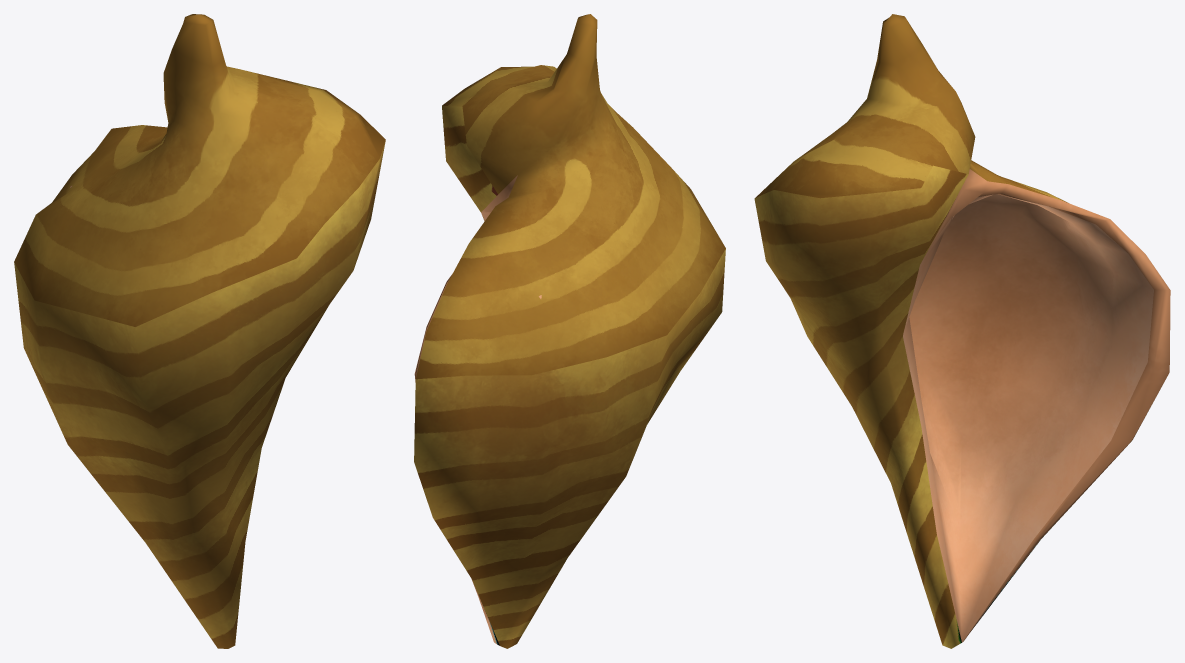
File: Shell.fbx
The picture shows the model from 3 angles, left to right: view 1: azimuth 30°, elevation 25°; view 2: azimuth 150°, elevation 25°; view 3: azimuth 270°, elevation 25°; orthographic projection. The views are drawn at different scales.
Parts seen in each view (by area): view 1: Shell; view 2: Shell; view 3: Shell.
Boxes of the visible parts, x1,y1,x2,y2 form: Shell: (14, 14, 385, 648); Shell: (414, 14, 725, 648); Shell: (754, 14, 1170, 648).
Bounding box in the file's own units: 177 × 418 × 260.
